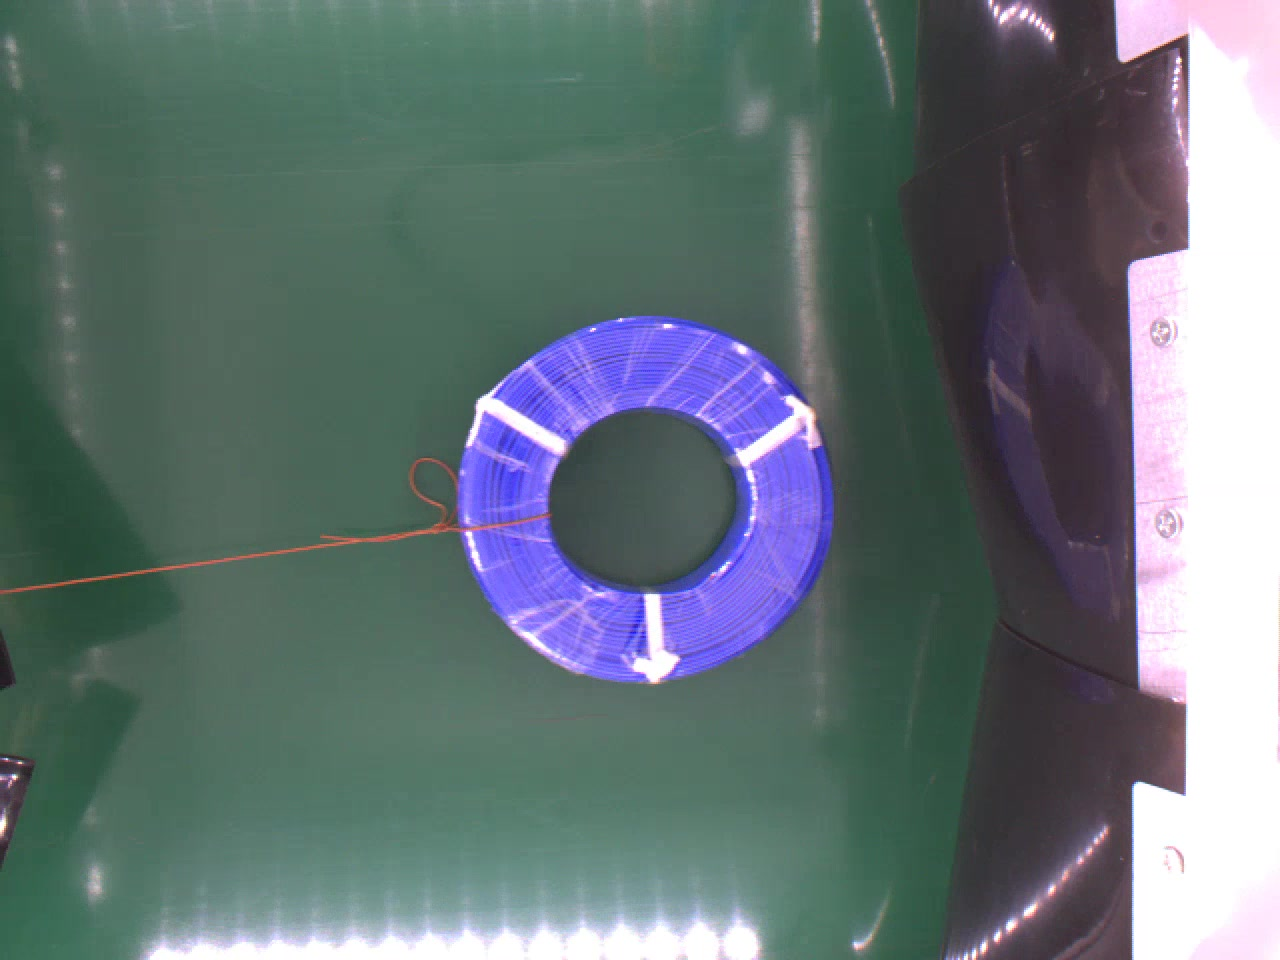blue: (456, 313, 836, 682)
